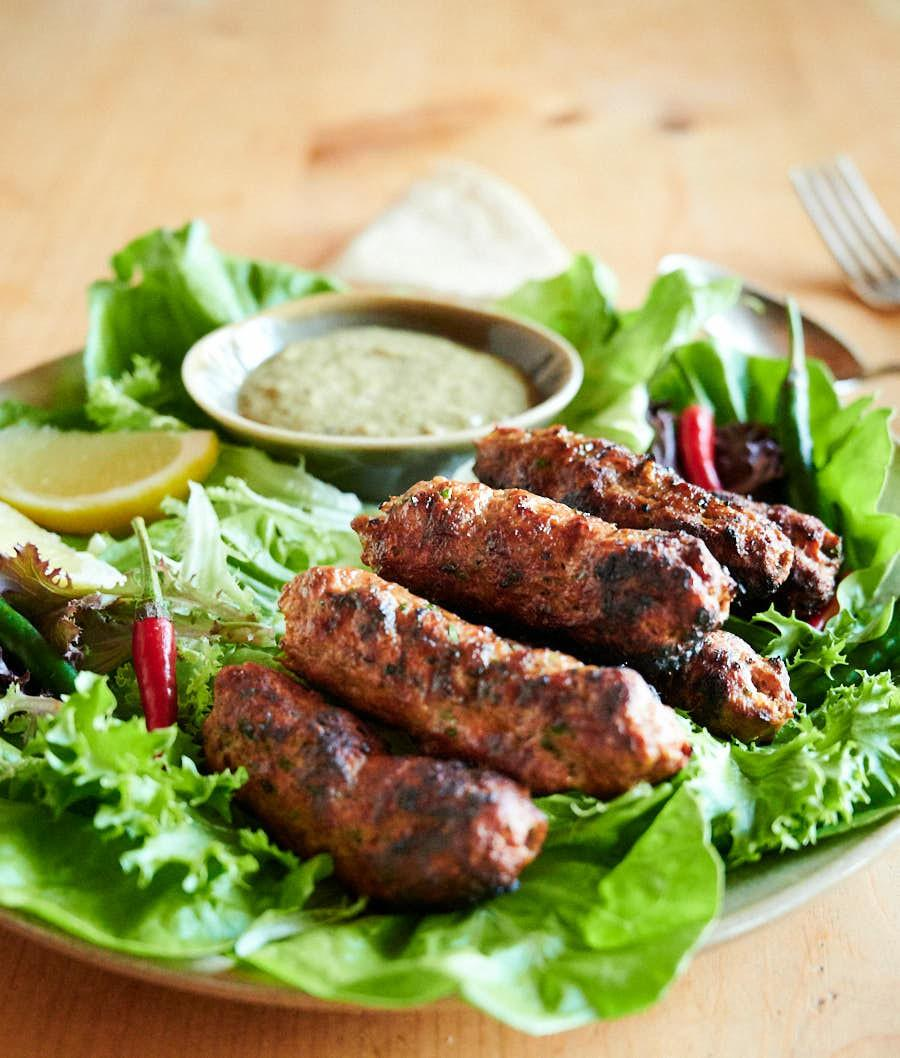Kebab: (282, 563, 691, 794), (201, 661, 545, 901), (351, 477, 735, 656), (473, 422, 797, 595), (624, 630, 797, 744), (720, 500, 842, 623)
